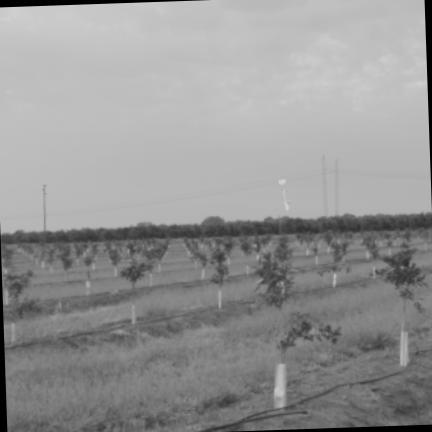Shahed: (279, 179, 290, 211)
